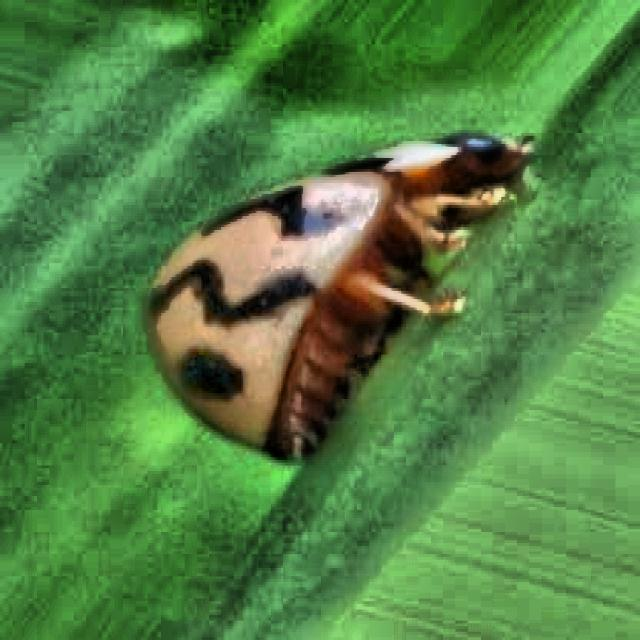Asian-Lady-beetle: (96, 40, 560, 590)
